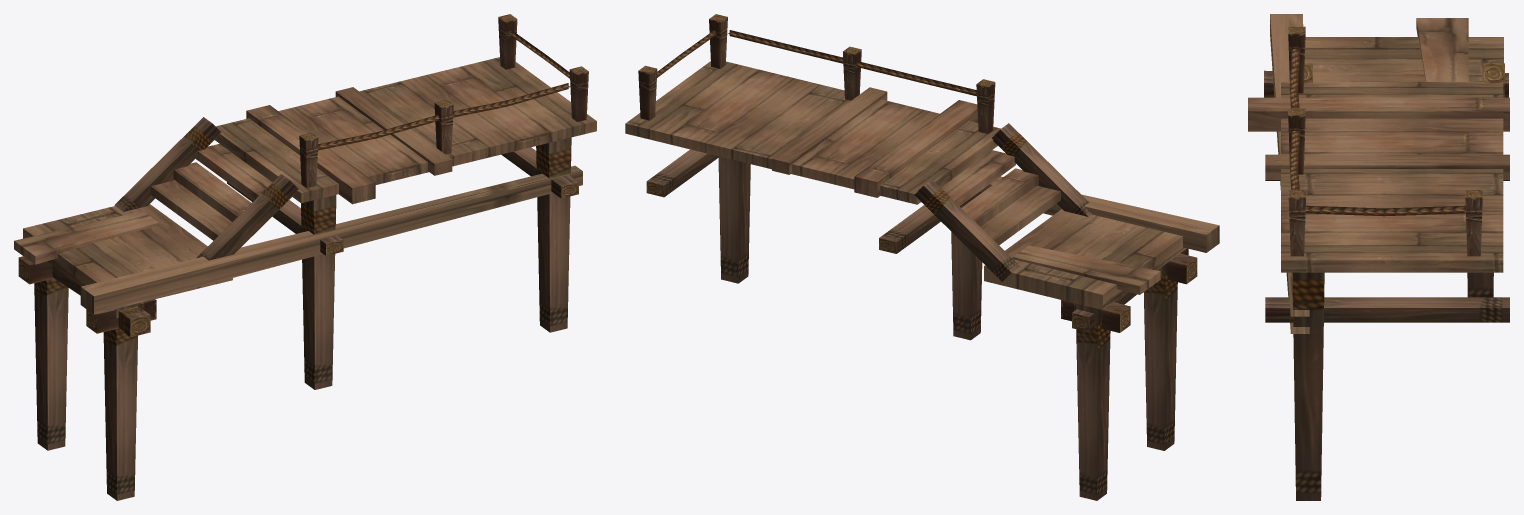
The model's file is szc_object_matou02a.FBX.
The picture shows the model from 3 angles, left to right: view 1: azimuth 30°, elevation 25°; view 2: azimuth 150°, elevation 25°; view 3: azimuth 270°, elevation 25°; orthographic projection. The views are drawn at different scales.
Visible parts, largest first — view 1: szc_object_matou02a; view 2: szc_object_matou02a; view 3: szc_object_matou02a.
Part boxes in pixels (x1,y1,x2,y2): szc_object_matou02a: (14,14,596,500); szc_object_matou02a: (625,14,1219,500); szc_object_matou02a: (1248,14,1509,500).
Bounding box in the file's own units: 1063 × 637 × 384.
